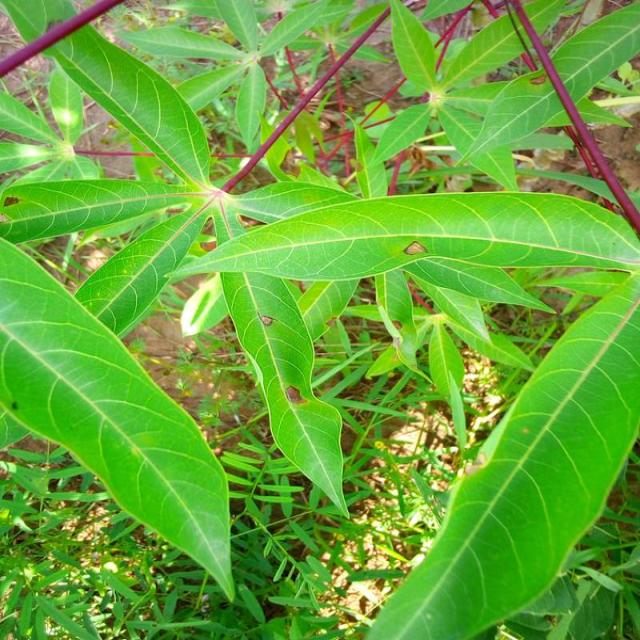cassava leaf: (1, 1, 638, 636), (364, 269, 638, 638), (0, 233, 235, 602), (1, 0, 211, 190)
